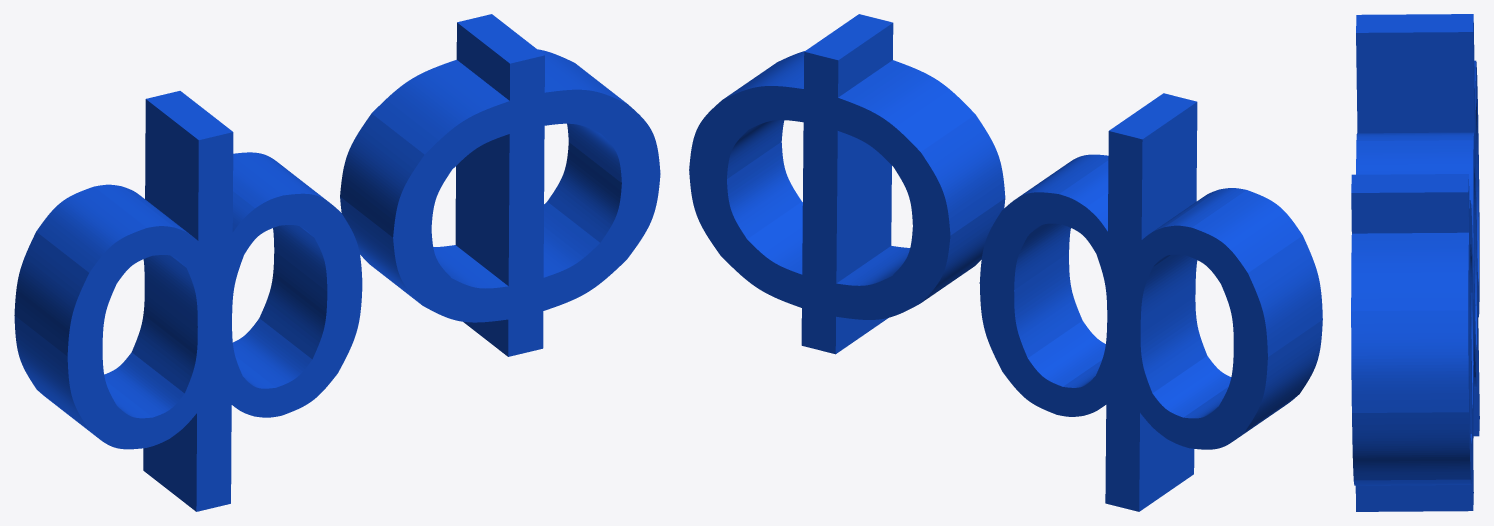
3 renders of one model, left to right at view 1: azimuth 30°, elevation 25°; view 2: azimuth 150°, elevation 25°; view 3: azimuth 270°, elevation 25°, orthographic. The views are drawn at different scales.
Parts seen in each view (by area): view 1: Mesh_0.026; view 2: Mesh_0.026; view 3: Mesh_0.026.
Boxes of the visible parts, bbox=[...] form: Mesh_0.026: bbox=[14, 14, 660, 511]; Mesh_0.026: bbox=[689, 14, 1322, 511]; Mesh_0.026: bbox=[1351, 14, 1479, 511].
Bounding box in the file's own units: 15.09 × 9.25 × 2.64.
